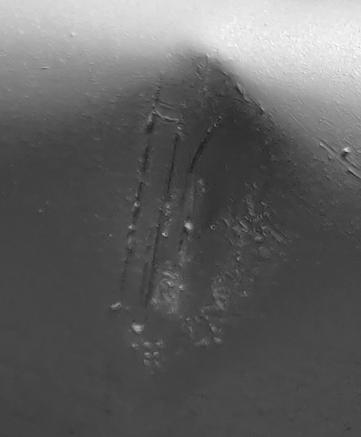dent: (0, 1, 361, 437)
